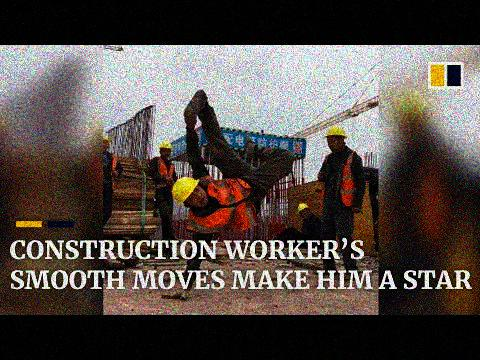helmet: (172, 175, 213, 209), (324, 123, 348, 154), (159, 141, 173, 158), (298, 202, 311, 220), (101, 134, 112, 152)
